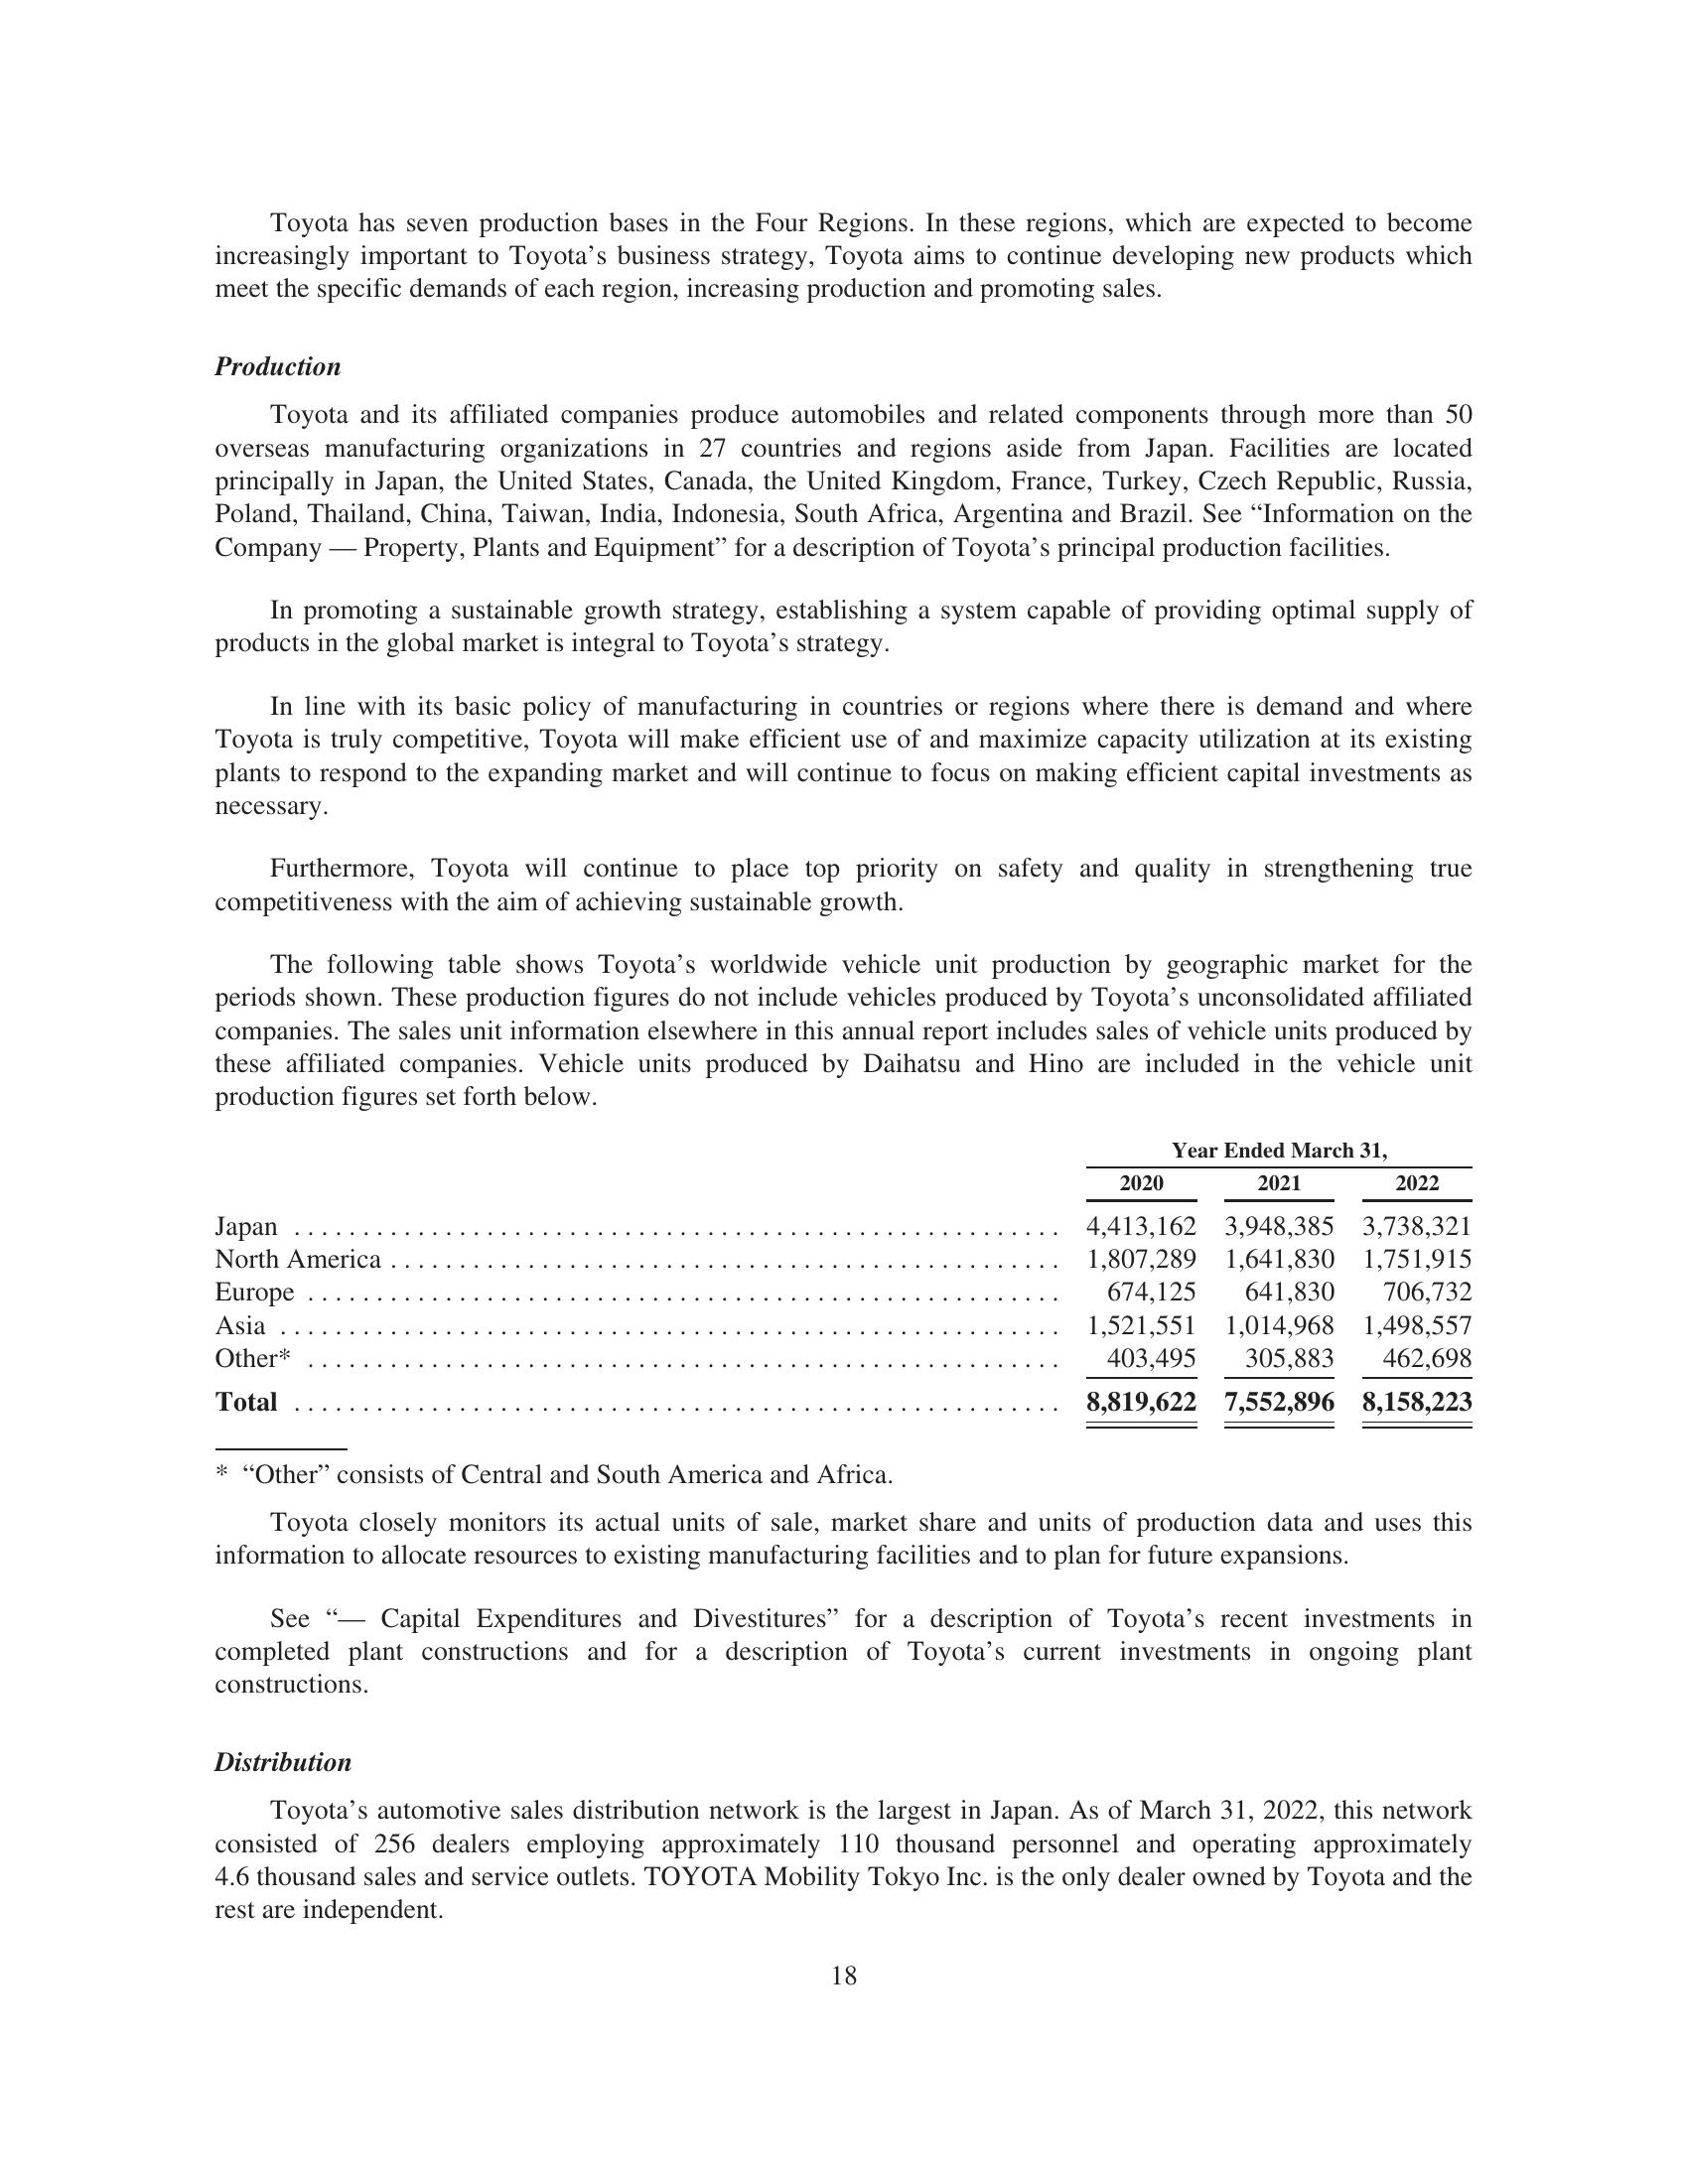Footer: (0, 1932, 1688, 2184)
Header: (0, 0, 1688, 179)
Table: (106, 1127, 1500, 1452)
